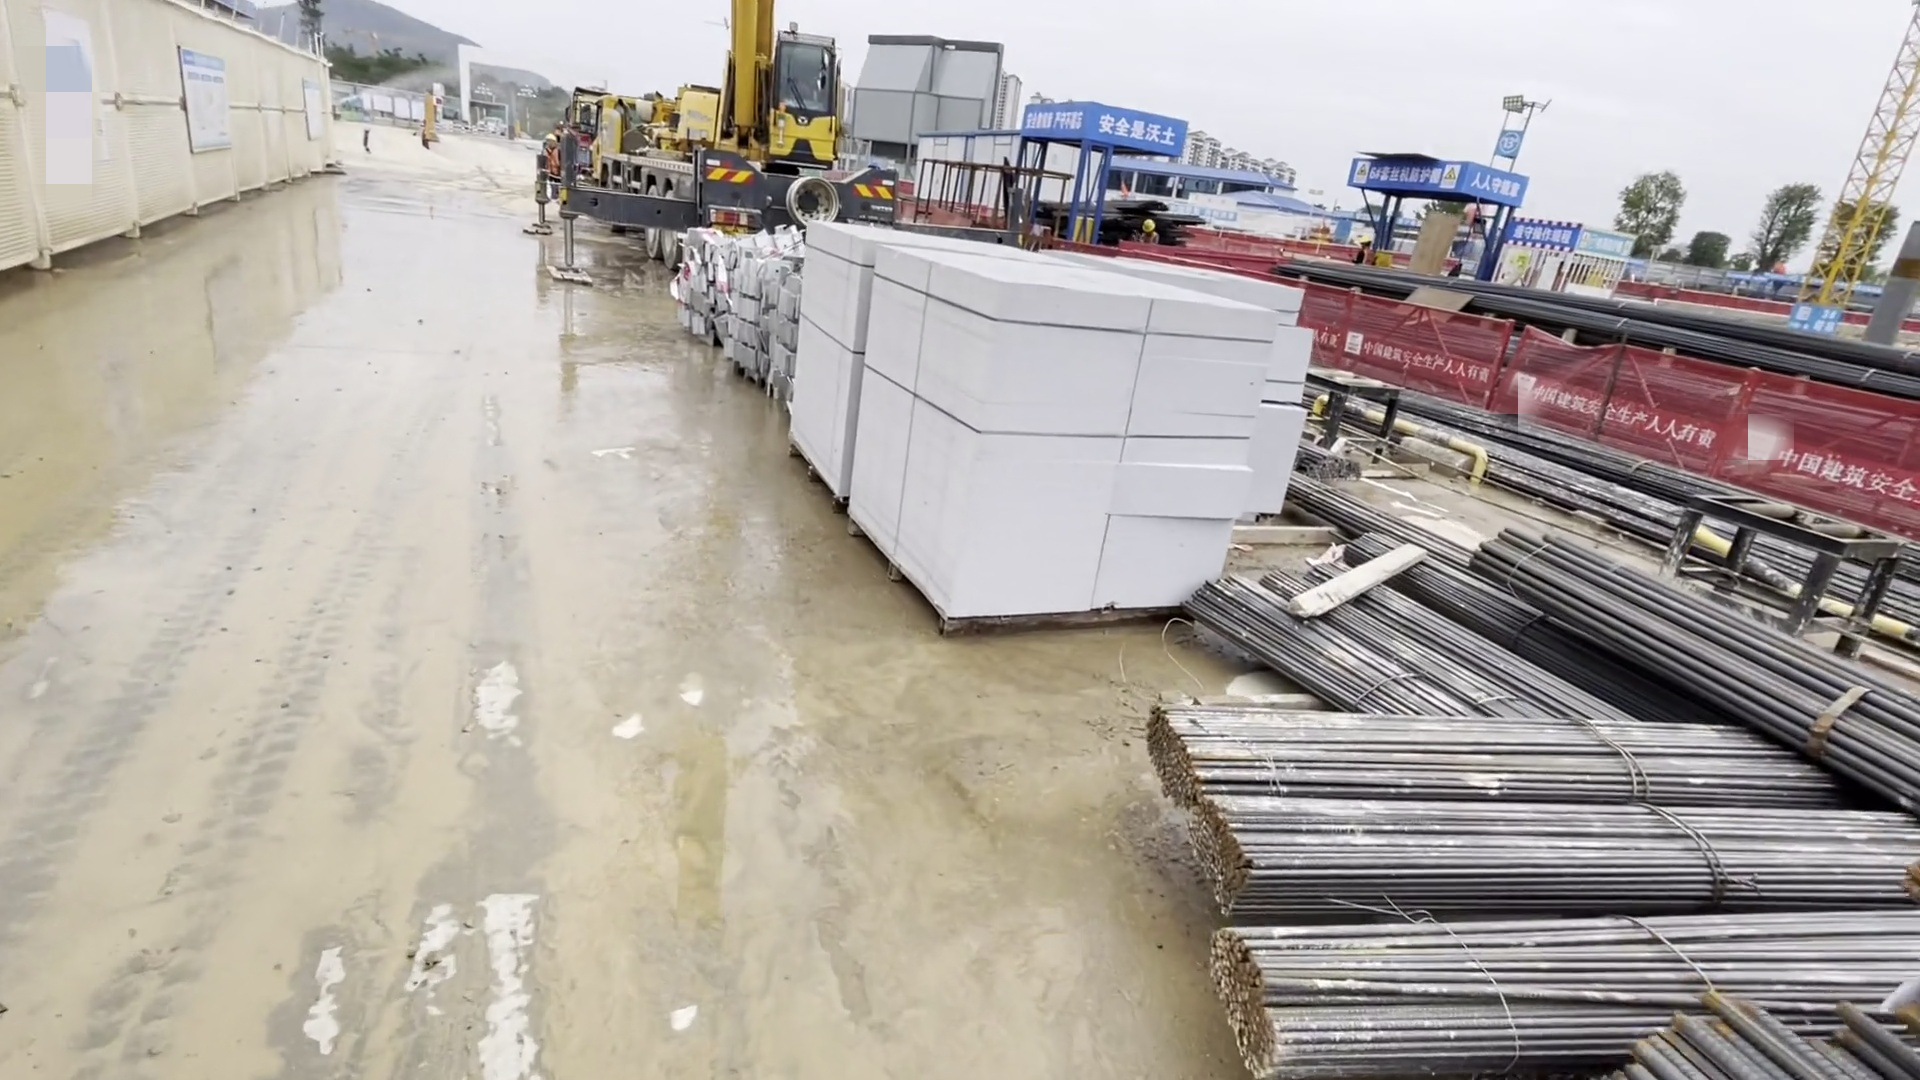brick: (786, 212, 1332, 642)
rebar: (1193, 566, 1920, 1065)
slogan: (1010, 90, 1193, 160), (1336, 144, 1532, 204)
